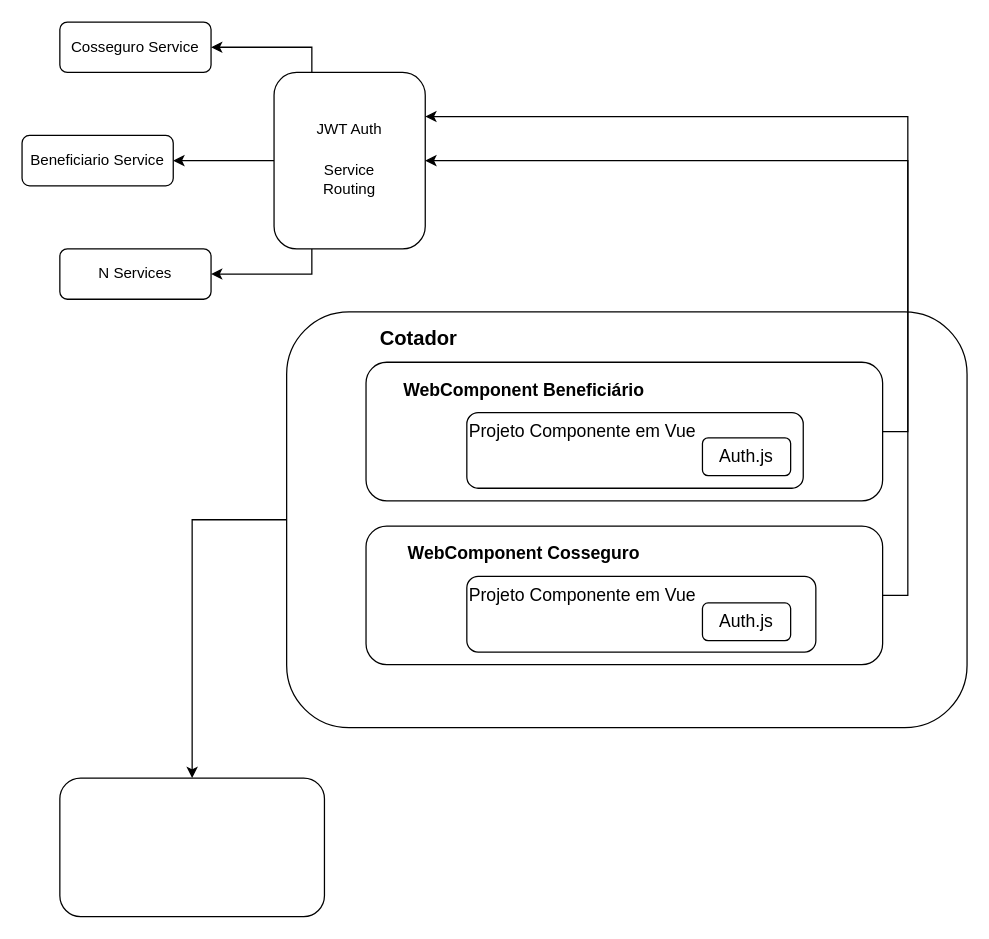
Image size: 989x939. Some labels were removed from this diagram. The shapes that lost their labels are listed below. From the top down, each one's box as (x1, y1, x2, y2) in pixels, then its label:
(273, 71, 425, 249): API Gateway
(59, 777, 324, 917): Cotador API
